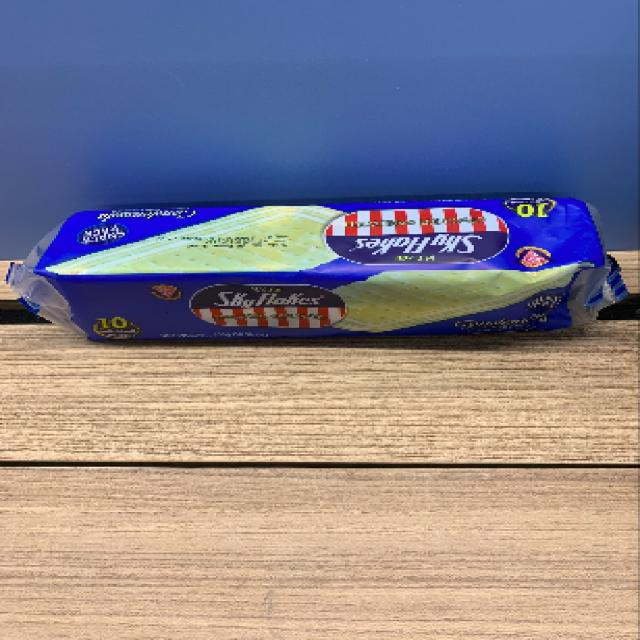object_name: (27, 213, 604, 343)
